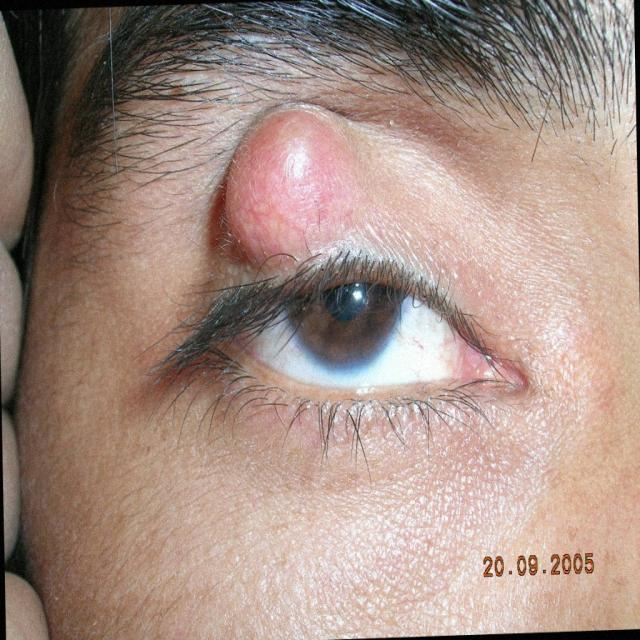Chalazion: (142, 81, 492, 452)
